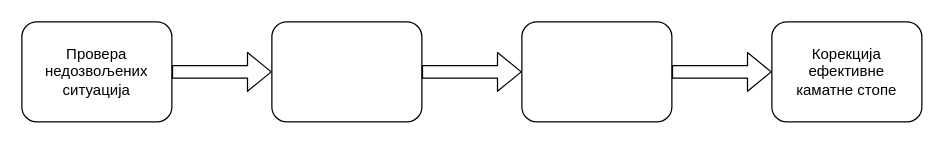
The diagram is 944 pixels wide and 144 high, and some of its shapes have lost their labels. The shapes that lost their labels are listed below. From the top down, each one's box as (x1, y1, x2, y2) in pixels, then its label:
(271, 21, 422, 122): Пренос новца са главног рачуна на штедни
(521, 21, 672, 122): Корекција главнице
